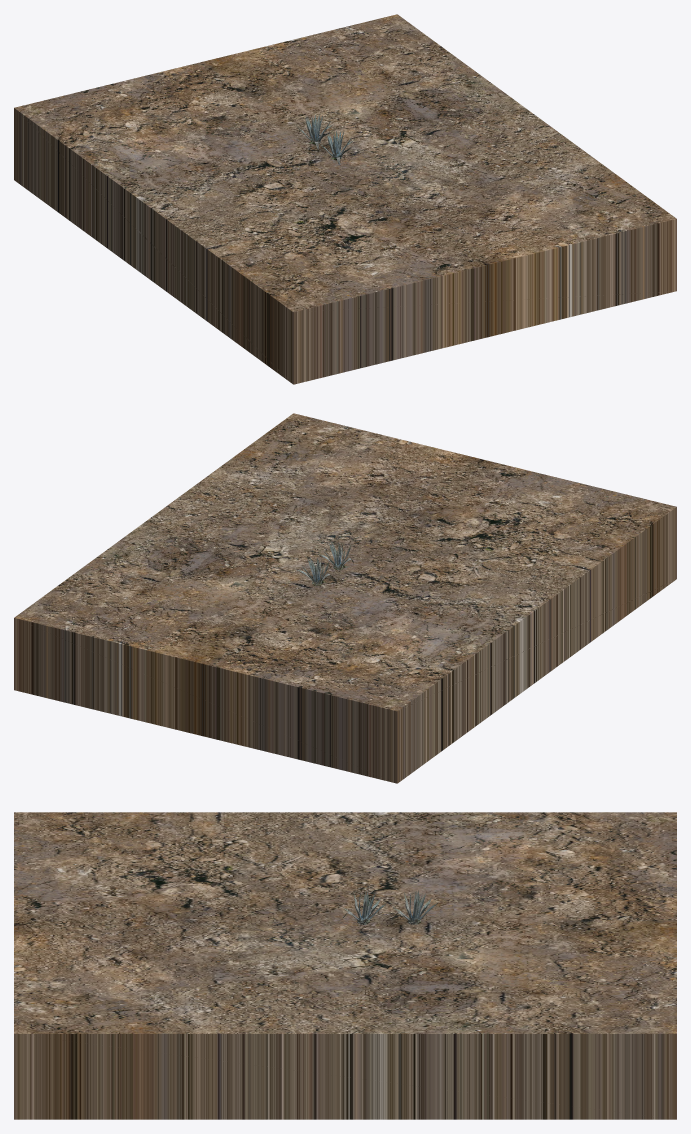
File: aloe-vera-real-v1.glb
3 views of the same model, one above another, from view 1: azimuth 30°, elevation 25°; view 2: azimuth 150°, elevation 25°; view 3: azimuth 270°, elevation 25° (orthographic). The views are drawn at different scales.
Parts seen in each view (by area): view 1: SOL_4; view 2: SOL_4; view 3: SOL_4, N031_Aloe vera_HP_0, N031_Aloe vera_LP._5.
Part boxes in pixels (<box>): SOL_4: <box>14,14,676,384</box>; SOL_4: <box>14,413,676,783</box>; SOL_4: <box>14,812,676,1119</box>; N031_Aloe vera_HP_0: <box>393,890,438,924</box>; N031_Aloe vera_LP._5: <box>342,891,386,924</box>.
Size of the model in its own units: 27.49 by 6.73 by 34.71.
Materials: 2 (2 with a texture image).
